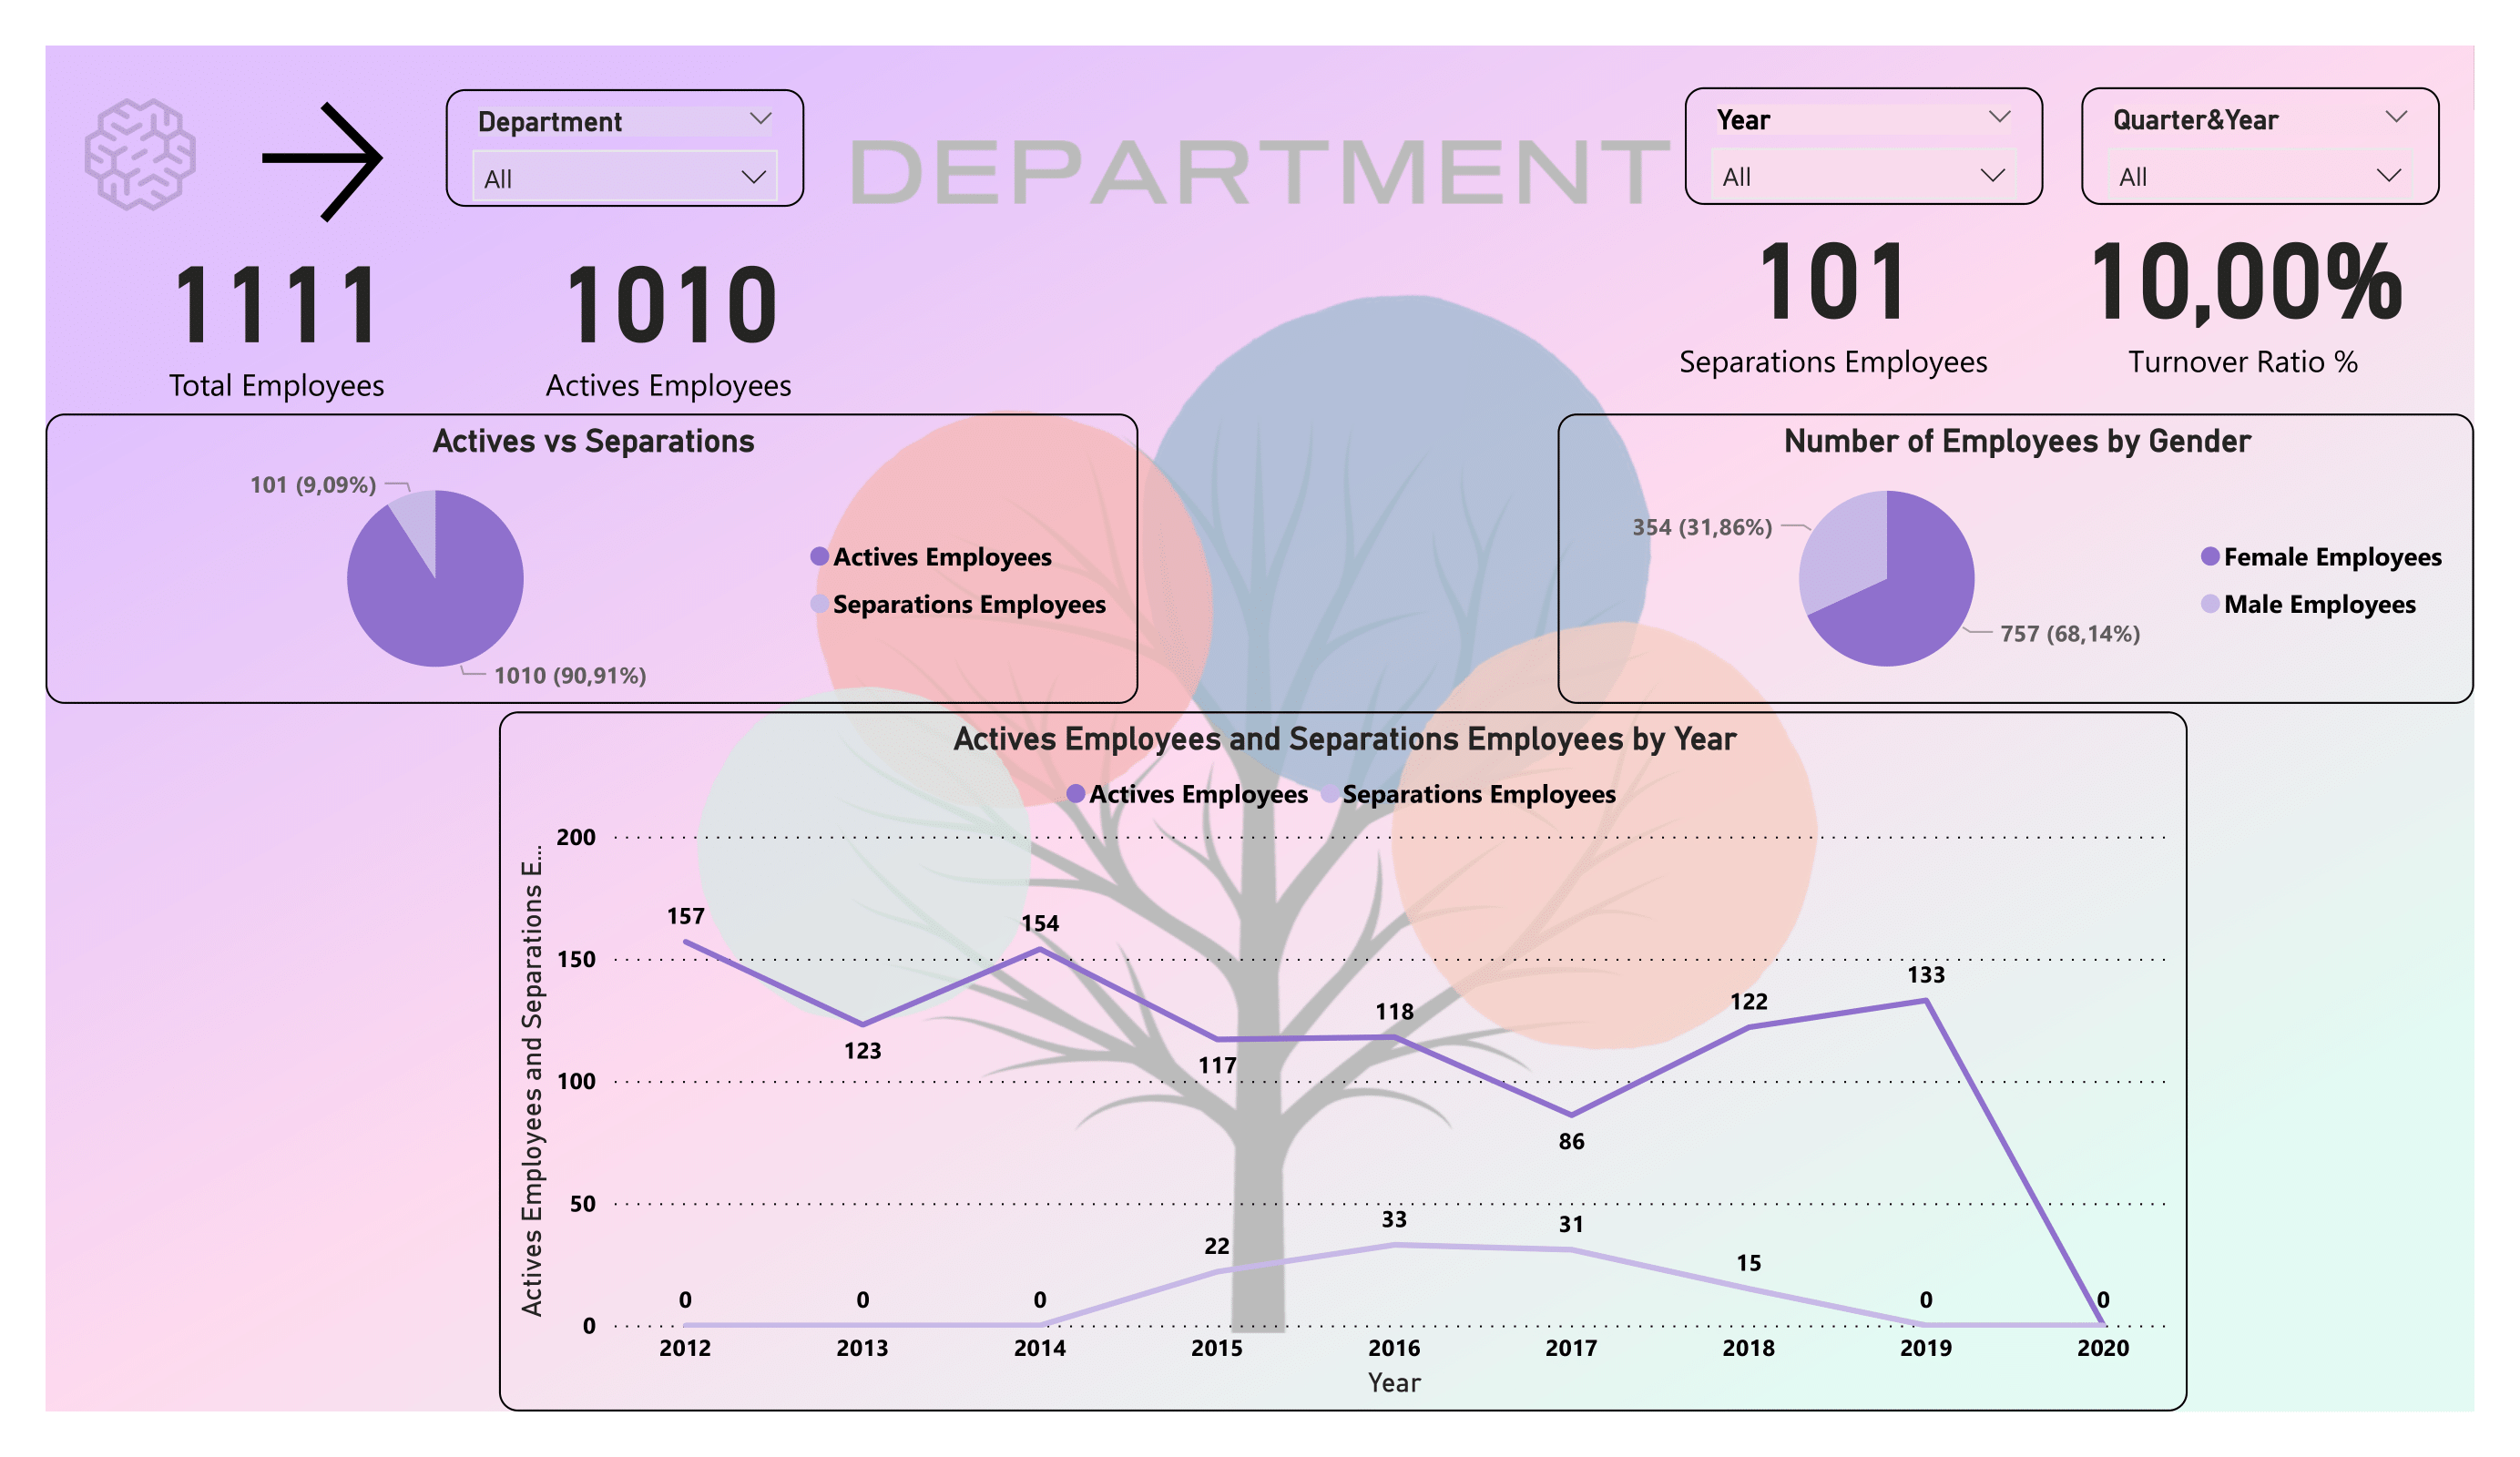

Layout of this report page (visuals, bound fields, positions):
{"tool":"powerbi","page":{"name":"DEPARTMENT","canvas":[1280,720],"ordinal":1},"visuals":[{"type":"slicer","fields":{"Values":["Calendar.Year"]},"box":[863.5,21.6,189.1,62.7],"z":0},{"type":"slicer","fields":{"Values":["Calendar.QuarterInCalendar"]},"box":[1073.2,21.6,189.1,62.7],"z":1000},{"type":"card","fields":{"Values":["1.DepartmentKeyMeasures.Total Employees 1"]},"box":[50.5,85.5,143.3,108.2],"z":2000},{"type":"card","fields":{"Values":["1.DepartmentKeyMeasures.Actives Employee"]},"box":[256.6,85.5,143.3,108.2],"z":3000},{"type":"card","fields":{"Values":["1.DepartmentKeyMeasures.Separations Employees"]},"box":[855.2,73.4,175.2,108.4],"z":4000},{"type":"card","fields":{"Values":["1.DepartmentKeyMeasures.Turnover Ratio %"]},"box":[1064.3,73.4,188.3,108.4],"z":5000},{"type":"pieChart","title":"Number of Employees by Gender","fields":{"Y":["1.DepartmentKeyMeasures.Number of Female Employees","1.DepartmentKeyMeasures.Number of Male Employees"]},"box":[796.6,193.6,483.4,153.7],"z":6000},{"type":"slicer","fields":{"Values":["Department.Name"]},"box":[210.8,22.8,189.1,62.7],"z":7000},{"type":"image","box":[15.4,22.7,69,69],"z":8000},{"type":"pieChart","title":"Actives vs Separations","fields":{"Y":["1.DepartmentKeyMeasures.Actives Employee","1.DepartmentKeyMeasures.Separations Employees"]},"box":[0,193.6,575.8,153.7],"z":9000},{"type":"actionButton","box":[93.5,22.7,100.2,77.5],"z":10000},{"type":"lineChart","fields":{"Category":["Calendar.Year","Calendar.QuarterInCalendar","Calendar.MonthInCalendar"],"Y":["1.DepartmentKeyMeasures.Actives Employees","1.DepartmentKeyMeasures.Separations Employees"]},"box":[238.7,350.9,890,369.4],"z":11000}]}

Visuals, with their boxes on the page's 1280x720 design canvas (x1, y1, x2, y2). These are canvas units, not pixel positions in the 2520x1457 screenshot, which may show the page scaled, cropped or inside an application window:
slicer - Calendar.Year: <bbox>864, 22, 1053, 84</bbox>
slicer - Calendar.QuarterInCalendar: <bbox>1073, 22, 1262, 84</bbox>
card - 1.DepartmentKeyMeasures.Total Employees 1: <bbox>50, 86, 194, 194</bbox>
card - 1.DepartmentKeyMeasures.Actives Employee: <bbox>257, 86, 400, 194</bbox>
card - 1.DepartmentKeyMeasures.Separations Employees: <bbox>855, 73, 1030, 182</bbox>
card - 1.DepartmentKeyMeasures.Turnover Ratio %: <bbox>1064, 73, 1253, 182</bbox>
"Number of Employees by Gender" pieChart: <bbox>797, 194, 1280, 347</bbox>
slicer - Department.Name: <bbox>211, 23, 400, 86</bbox>
image: <bbox>15, 23, 84, 92</bbox>
"Actives vs Separations" pieChart: <bbox>0, 194, 576, 347</bbox>
actionButton: <bbox>94, 23, 194, 100</bbox>
lineChart - Calendar.Year x Calendar.QuarterInCalendar: <bbox>239, 351, 1129, 720</bbox>
